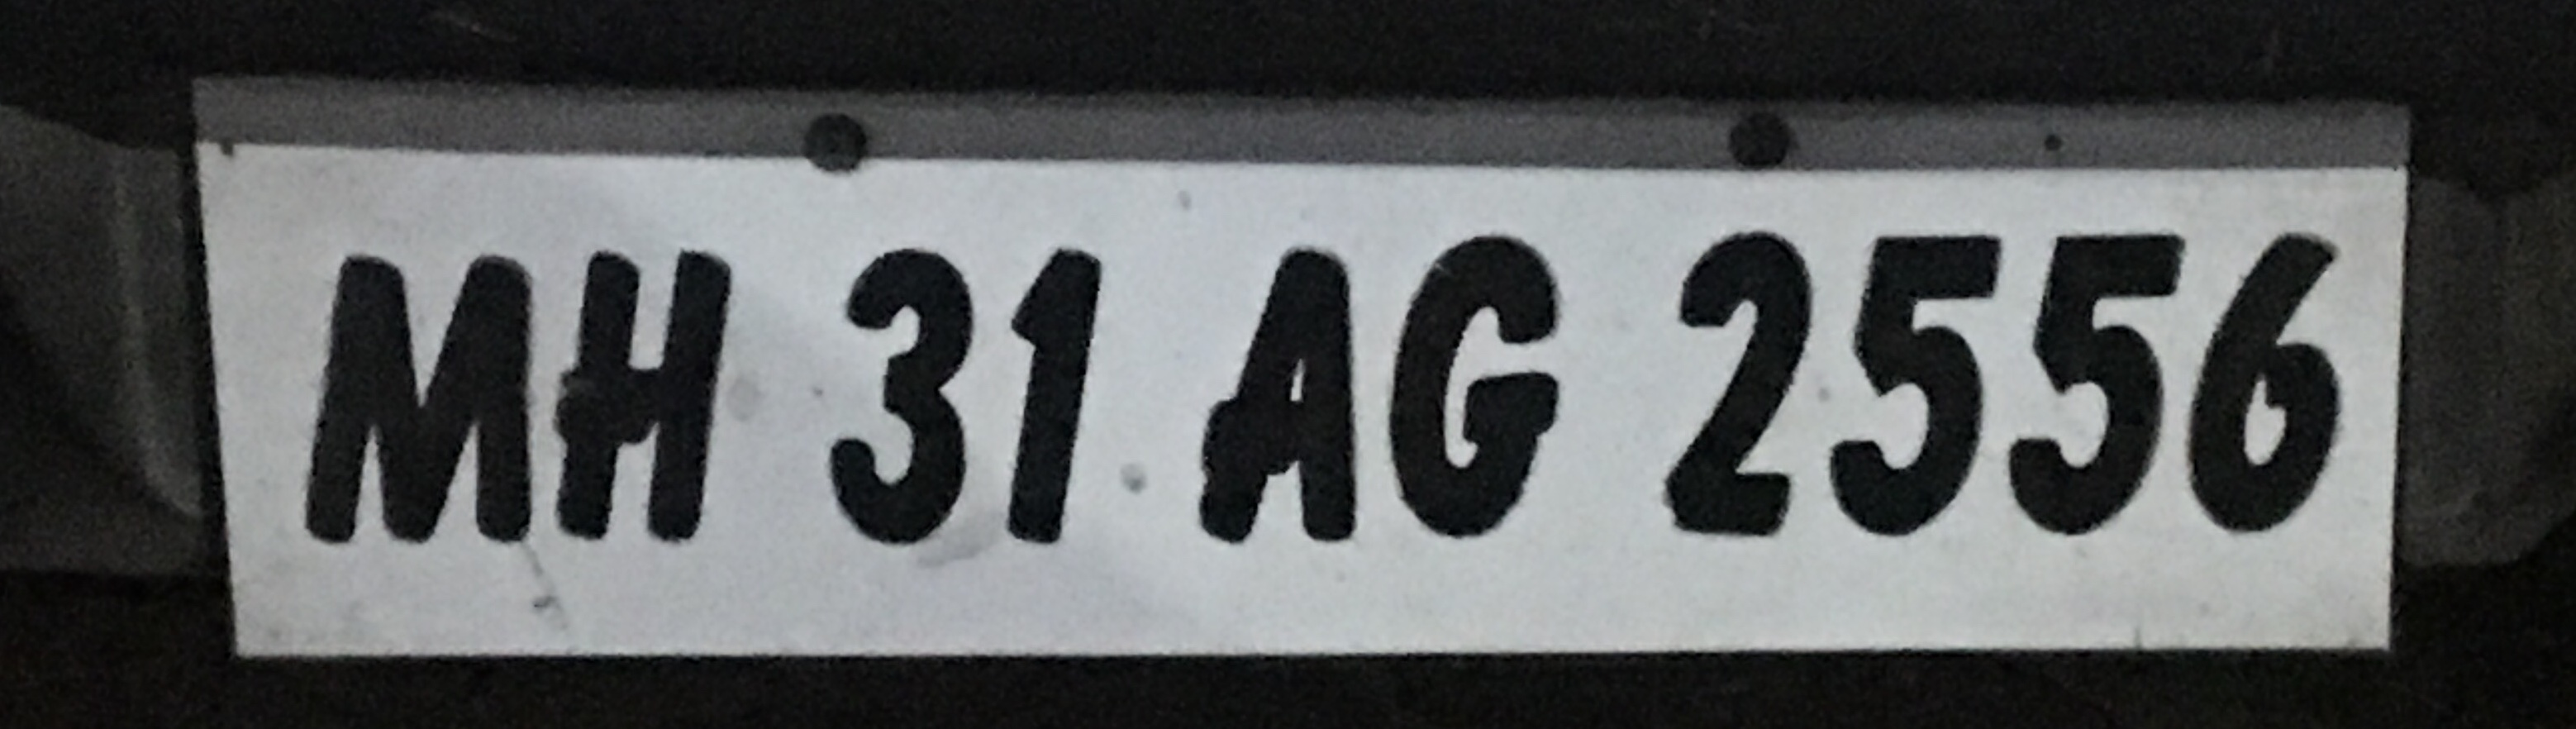numberplate: (176, 56, 2415, 661)
